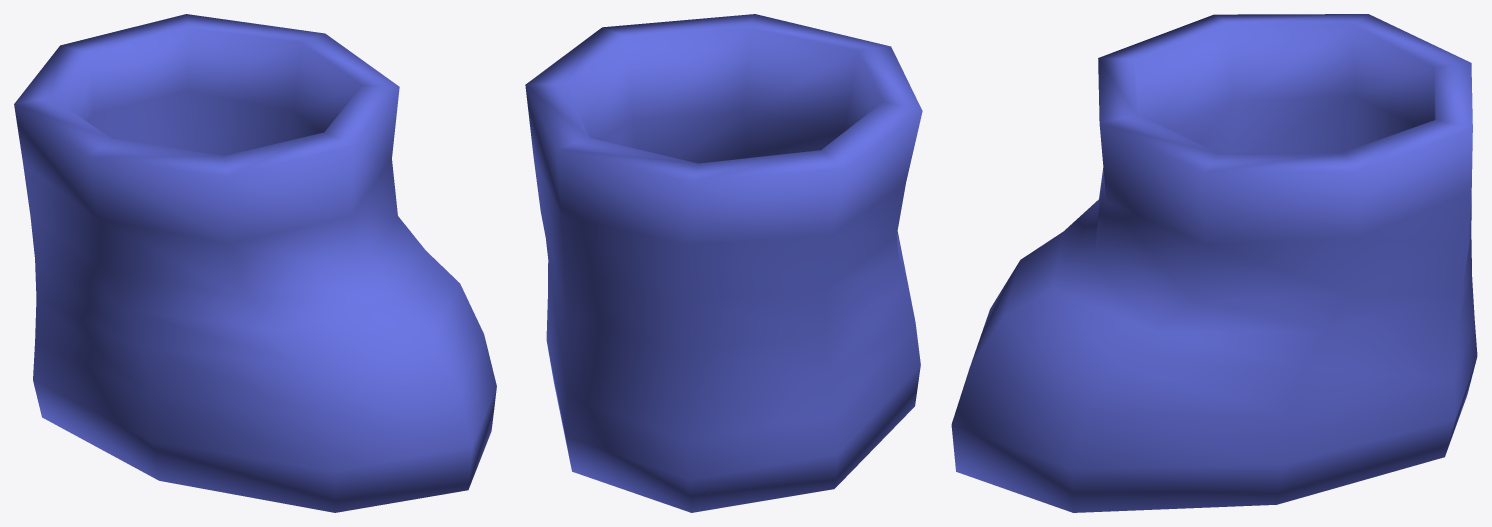
Rendered from bluboots_l.fbx.
3 views of the same model, side by side, from view 1: azimuth 30°, elevation 25°; view 2: azimuth 150°, elevation 25°; view 3: azimuth 270°, elevation 25° (orthographic). The views are drawn at different scales.
Visible parts, largest first — view 1: bluboots_l; view 2: bluboots_l; view 3: bluboots_l.
Boxes of the visible parts, left/top/right/bottom form: bluboots_l: left=14, top=14, right=496, bottom=512; bluboots_l: left=525, top=14, right=922, bottom=512; bluboots_l: left=951, top=14, right=1477, bottom=512.
Bounding box in the file's own units: 10.44 × 9.36 × 13.13.
